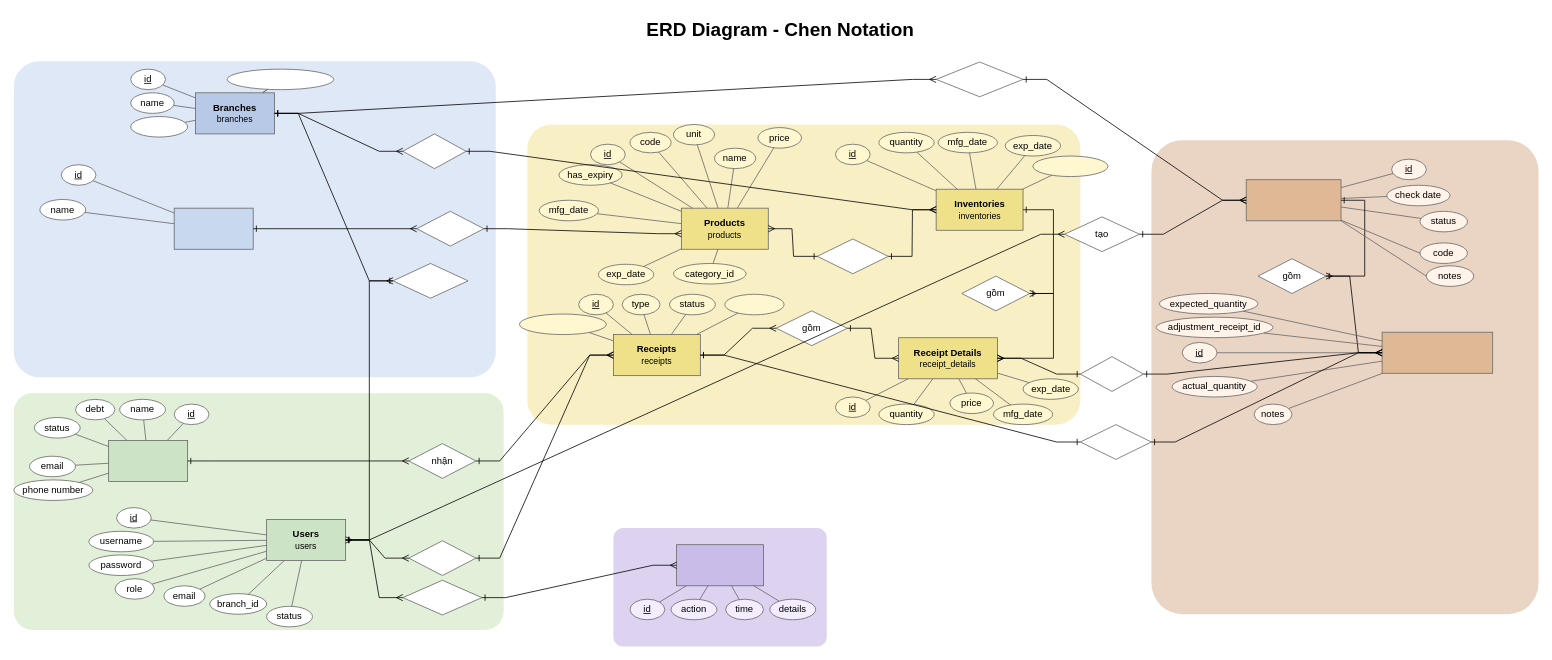
The diagram is 1552 pixels wide and 660 high, and some of its shapes have lost their labels. The centre of each missing label's shape, as x and y in pixels:
address: pixel 159 126
Audit Logs audit_logs: pixel 720 565
Categories categories: pixel 213 228
created_at: pixel 754 304
Customers customers: pixel 148 461
ghi nhận: pixel 442 597
last_updated: pixel 1070 166
low_stock_threshold: pixel 280 79
lưu trữ: pixel 434 151
lập: pixel 442 558
payment_status: pixel 562 324
phân loại: pixel 450 228
quản lý: pixel 430 280
sinh ra: pixel 1115 441
Stocktake Details stocktake_details: pixel 1437 352
Stocktakes stocktakes: pixel 1293 200
theo dõi: pixel 852 256
thực hiện tại: pixel 979 79
đối soát: pixel 1112 373
